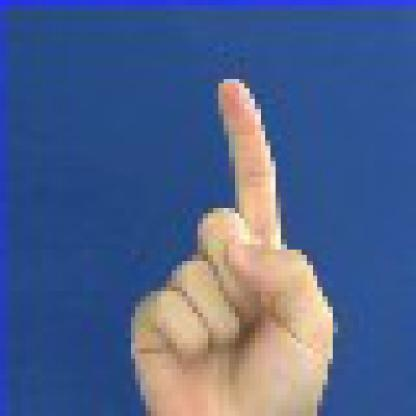one: (115, 62, 354, 411)
